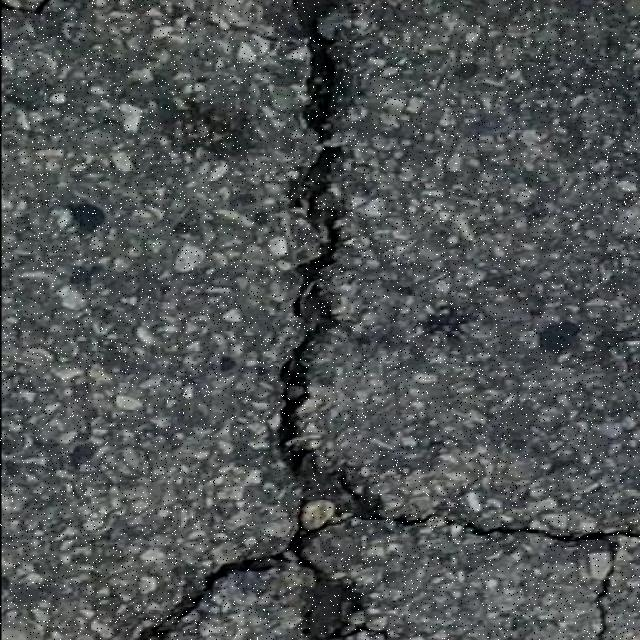Crack: (276, 0, 348, 541), (143, 545, 392, 640), (353, 486, 446, 520), (591, 548, 614, 640), (474, 528, 634, 540), (1, 0, 35, 12)
